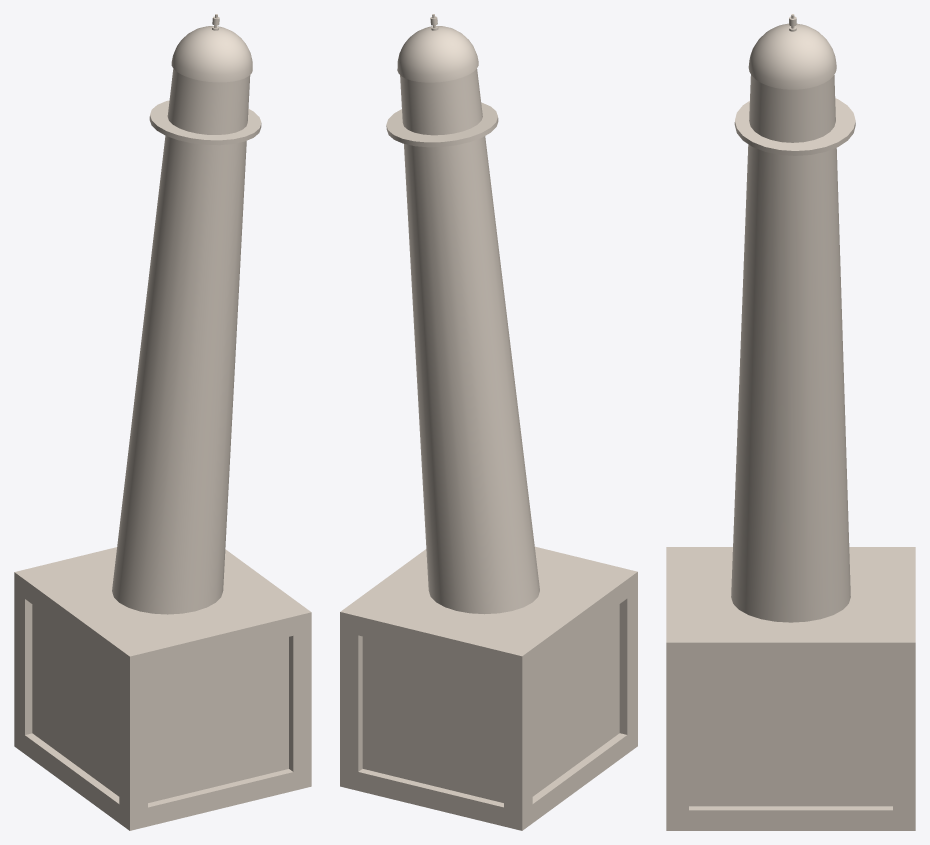
Rendered from MANART AL-HADB'A.glb.
3 renders of one model, left to right at view 1: azimuth 30°, elevation 25°; view 2: azimuth 150°, elevation 25°; view 3: azimuth 270°, elevation 25°, orthographic. The views are drawn at different scales.
Visible parts, largest first — view 1: Geom3D; view 2: Geom3D; view 3: Geom3D.
Boxes of the visible parts, <box> form: Geom3D: <box>14,14,311,830</box>; Geom3D: <box>340,14,637,830</box>; Geom3D: <box>666,14,915,830</box>.
Size of the model in its own units: 0.3156 by 1.21 by 0.3432.
